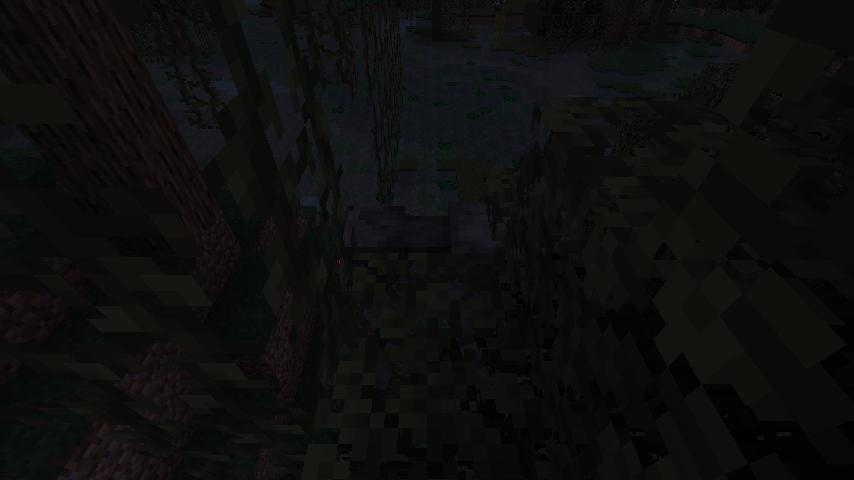spider: (333, 191, 516, 374)
